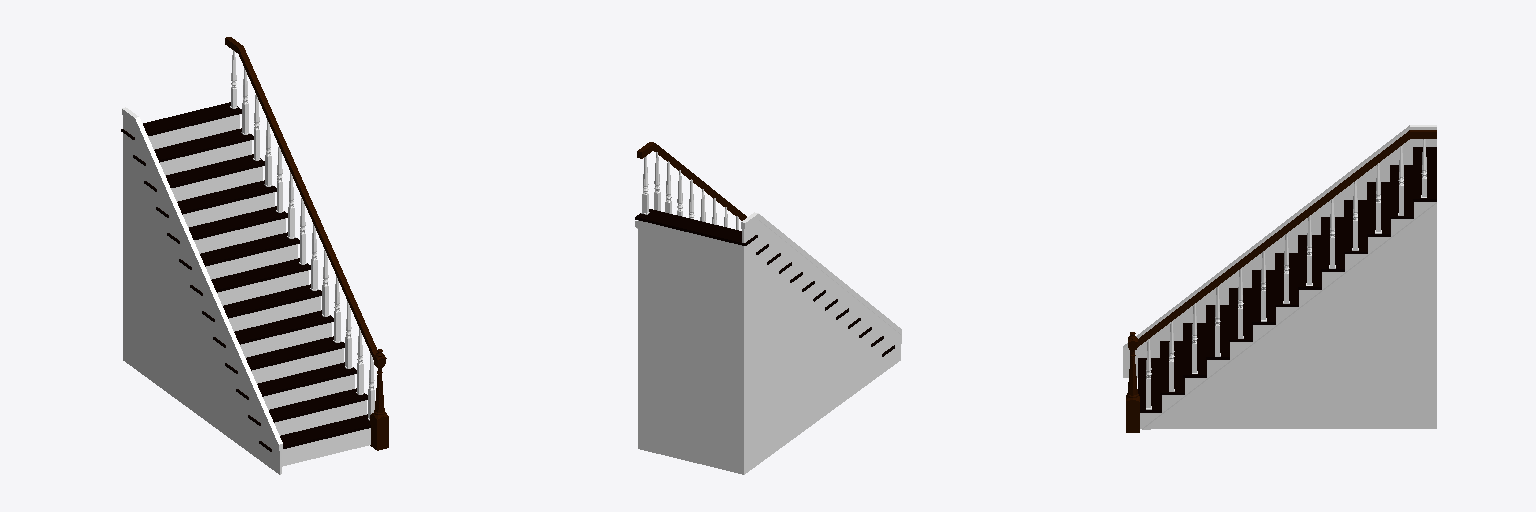
The model's file is staircase.obj.
3 views of the same model, side by side, from view 1: azimuth 30°, elevation 25°; view 2: azimuth 150°, elevation 25°; view 3: azimuth 270°, elevation 25° (orthographic).
Size of the model in its own units: 5.64 by 14.34 by 13.69.